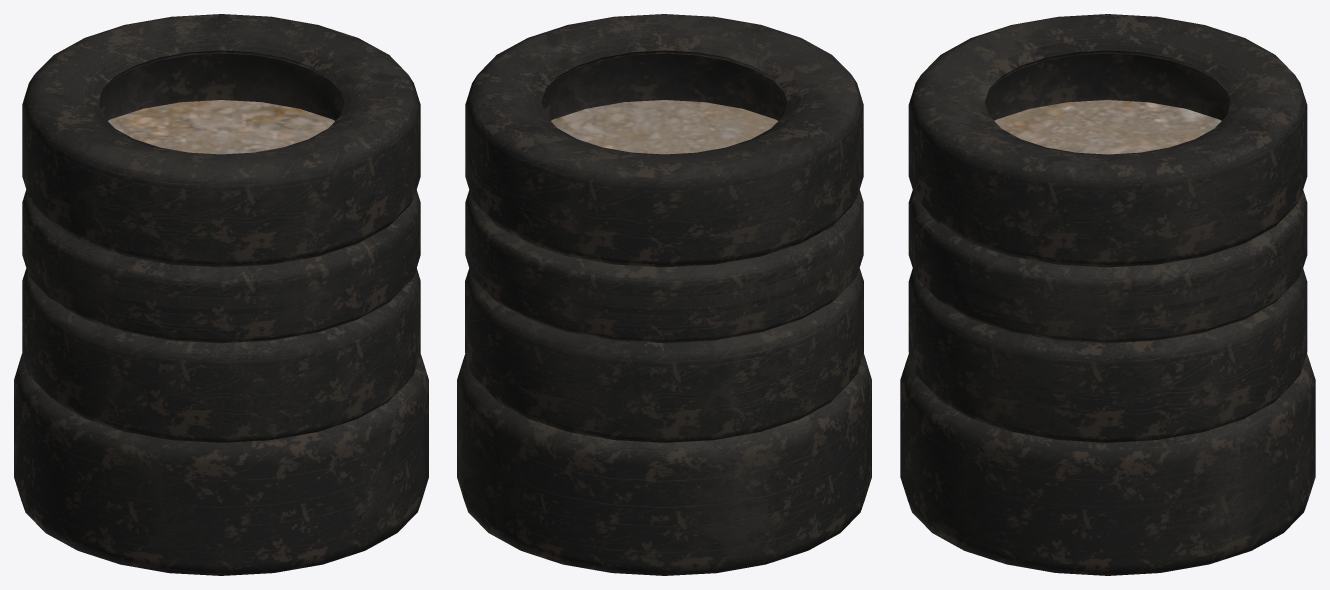
File: TrTiresStackA1A.fbx
The picture shows the model from 3 angles, left to right: view 1: azimuth 30°, elevation 25°; view 2: azimuth 150°, elevation 25°; view 3: azimuth 270°, elevation 25°; orthographic projection.
Visible parts, largest first — view 1: TrTiresStackA1A_LOD0; view 2: TrTiresStackA1A_LOD0; view 3: TrTiresStackA1A_LOD0.
Boxes of the visible parts, left/top/right/bottom form: TrTiresStackA1A_LOD0: left=14, top=14, right=428, bottom=575; TrTiresStackA1A_LOD0: left=457, top=14, right=871, bottom=575; TrTiresStackA1A_LOD0: left=900, top=14, right=1315, bottom=575.
Size of what is drawn, in the model's own units: 66.3 by 71.33 by 66.3.
1 material, 1 textured.
